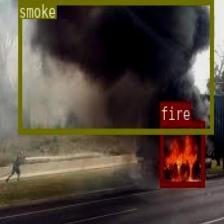fire: (159, 120, 204, 186)
smoke: (18, 0, 213, 132)
